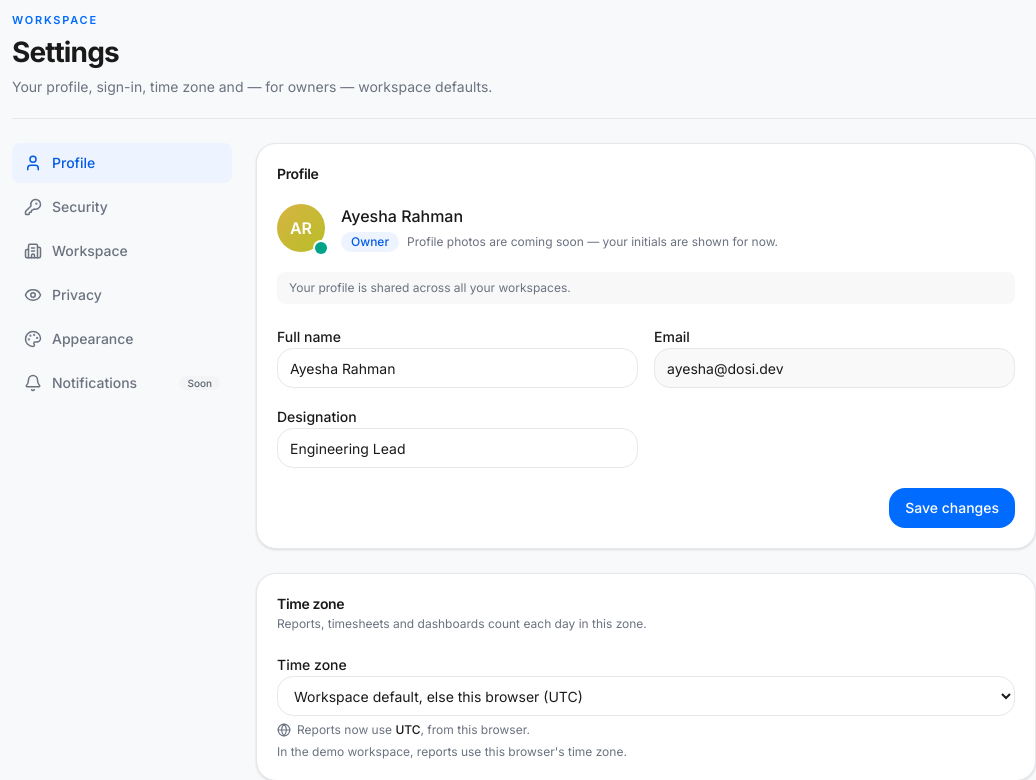
it: settings page — demo mode (no backend session) › offers no dead controls: no avatar upload, and notifications are marked coming soon
Click the tab "Notifications Soon".
click(122, 383)  # box x1=12 y1=363 x2=232 y2=403
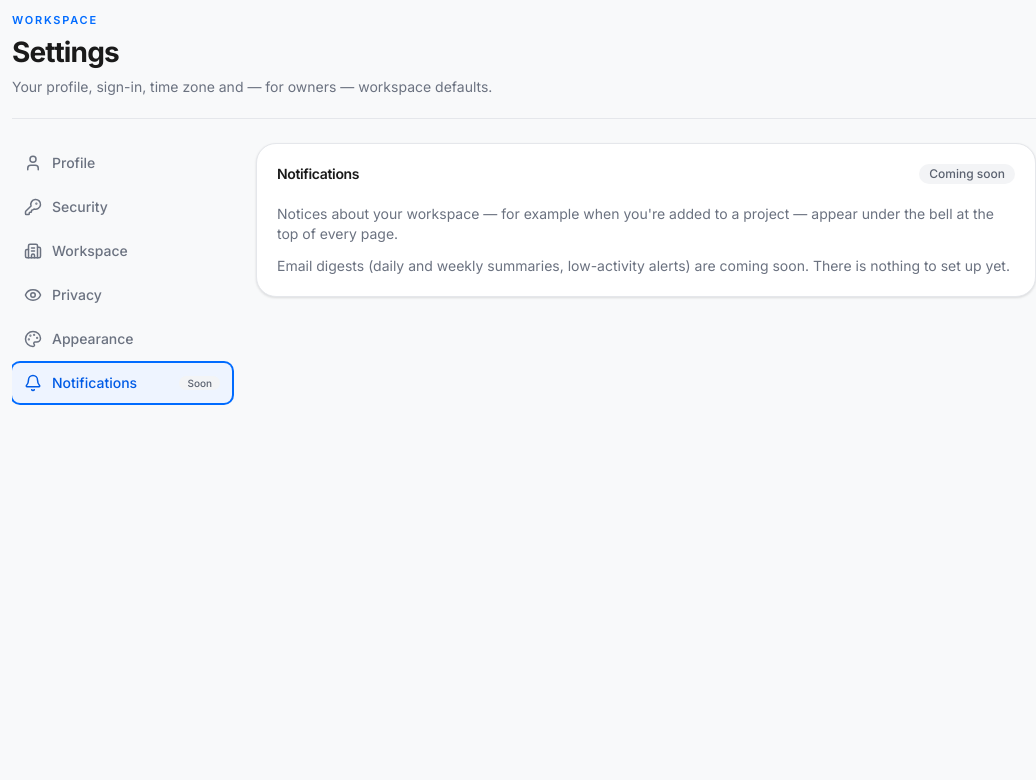
Result: the text "Coming soon" is shown at x1=919 y1=164 x2=1015 y2=184
